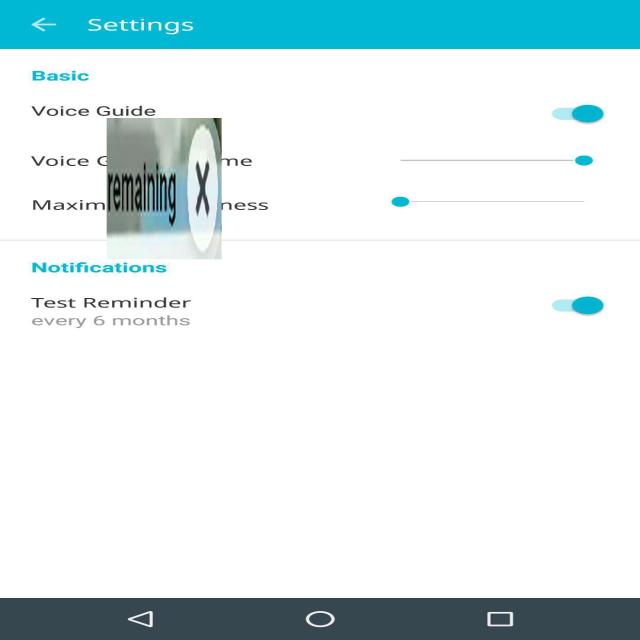misdirection: (106, 118, 222, 259)
